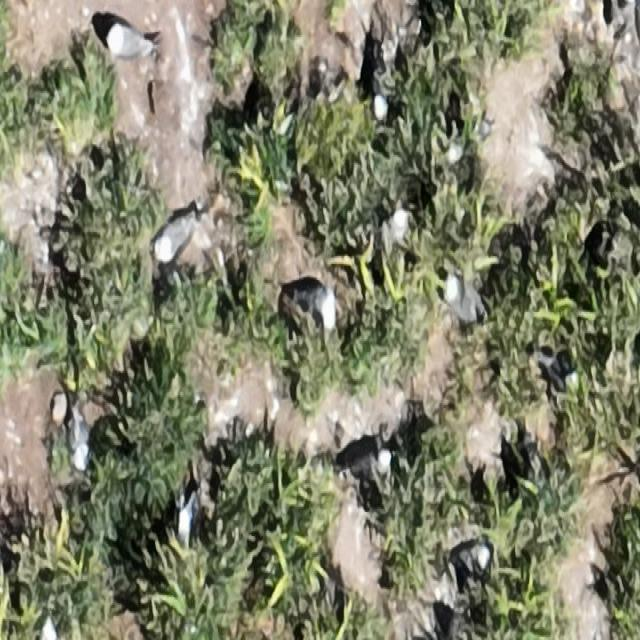umineko: (292, 280, 338, 330), (66, 391, 94, 473), (159, 209, 197, 259), (442, 277, 484, 321), (345, 448, 392, 482), (176, 482, 206, 535), (448, 547, 492, 579), (372, 53, 392, 123), (104, 30, 150, 58), (377, 210, 407, 250), (445, 137, 470, 166)
